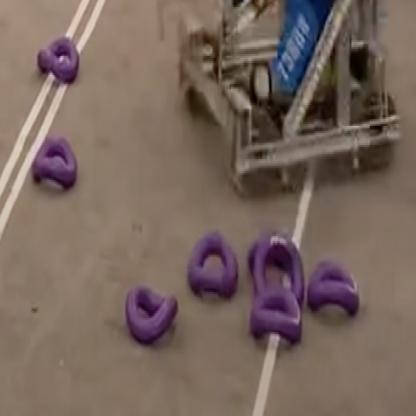ring: (252, 229, 303, 311), (186, 229, 237, 299), (125, 283, 177, 341), (250, 285, 302, 341), (307, 258, 359, 314), (31, 133, 78, 187), (36, 37, 78, 80)
